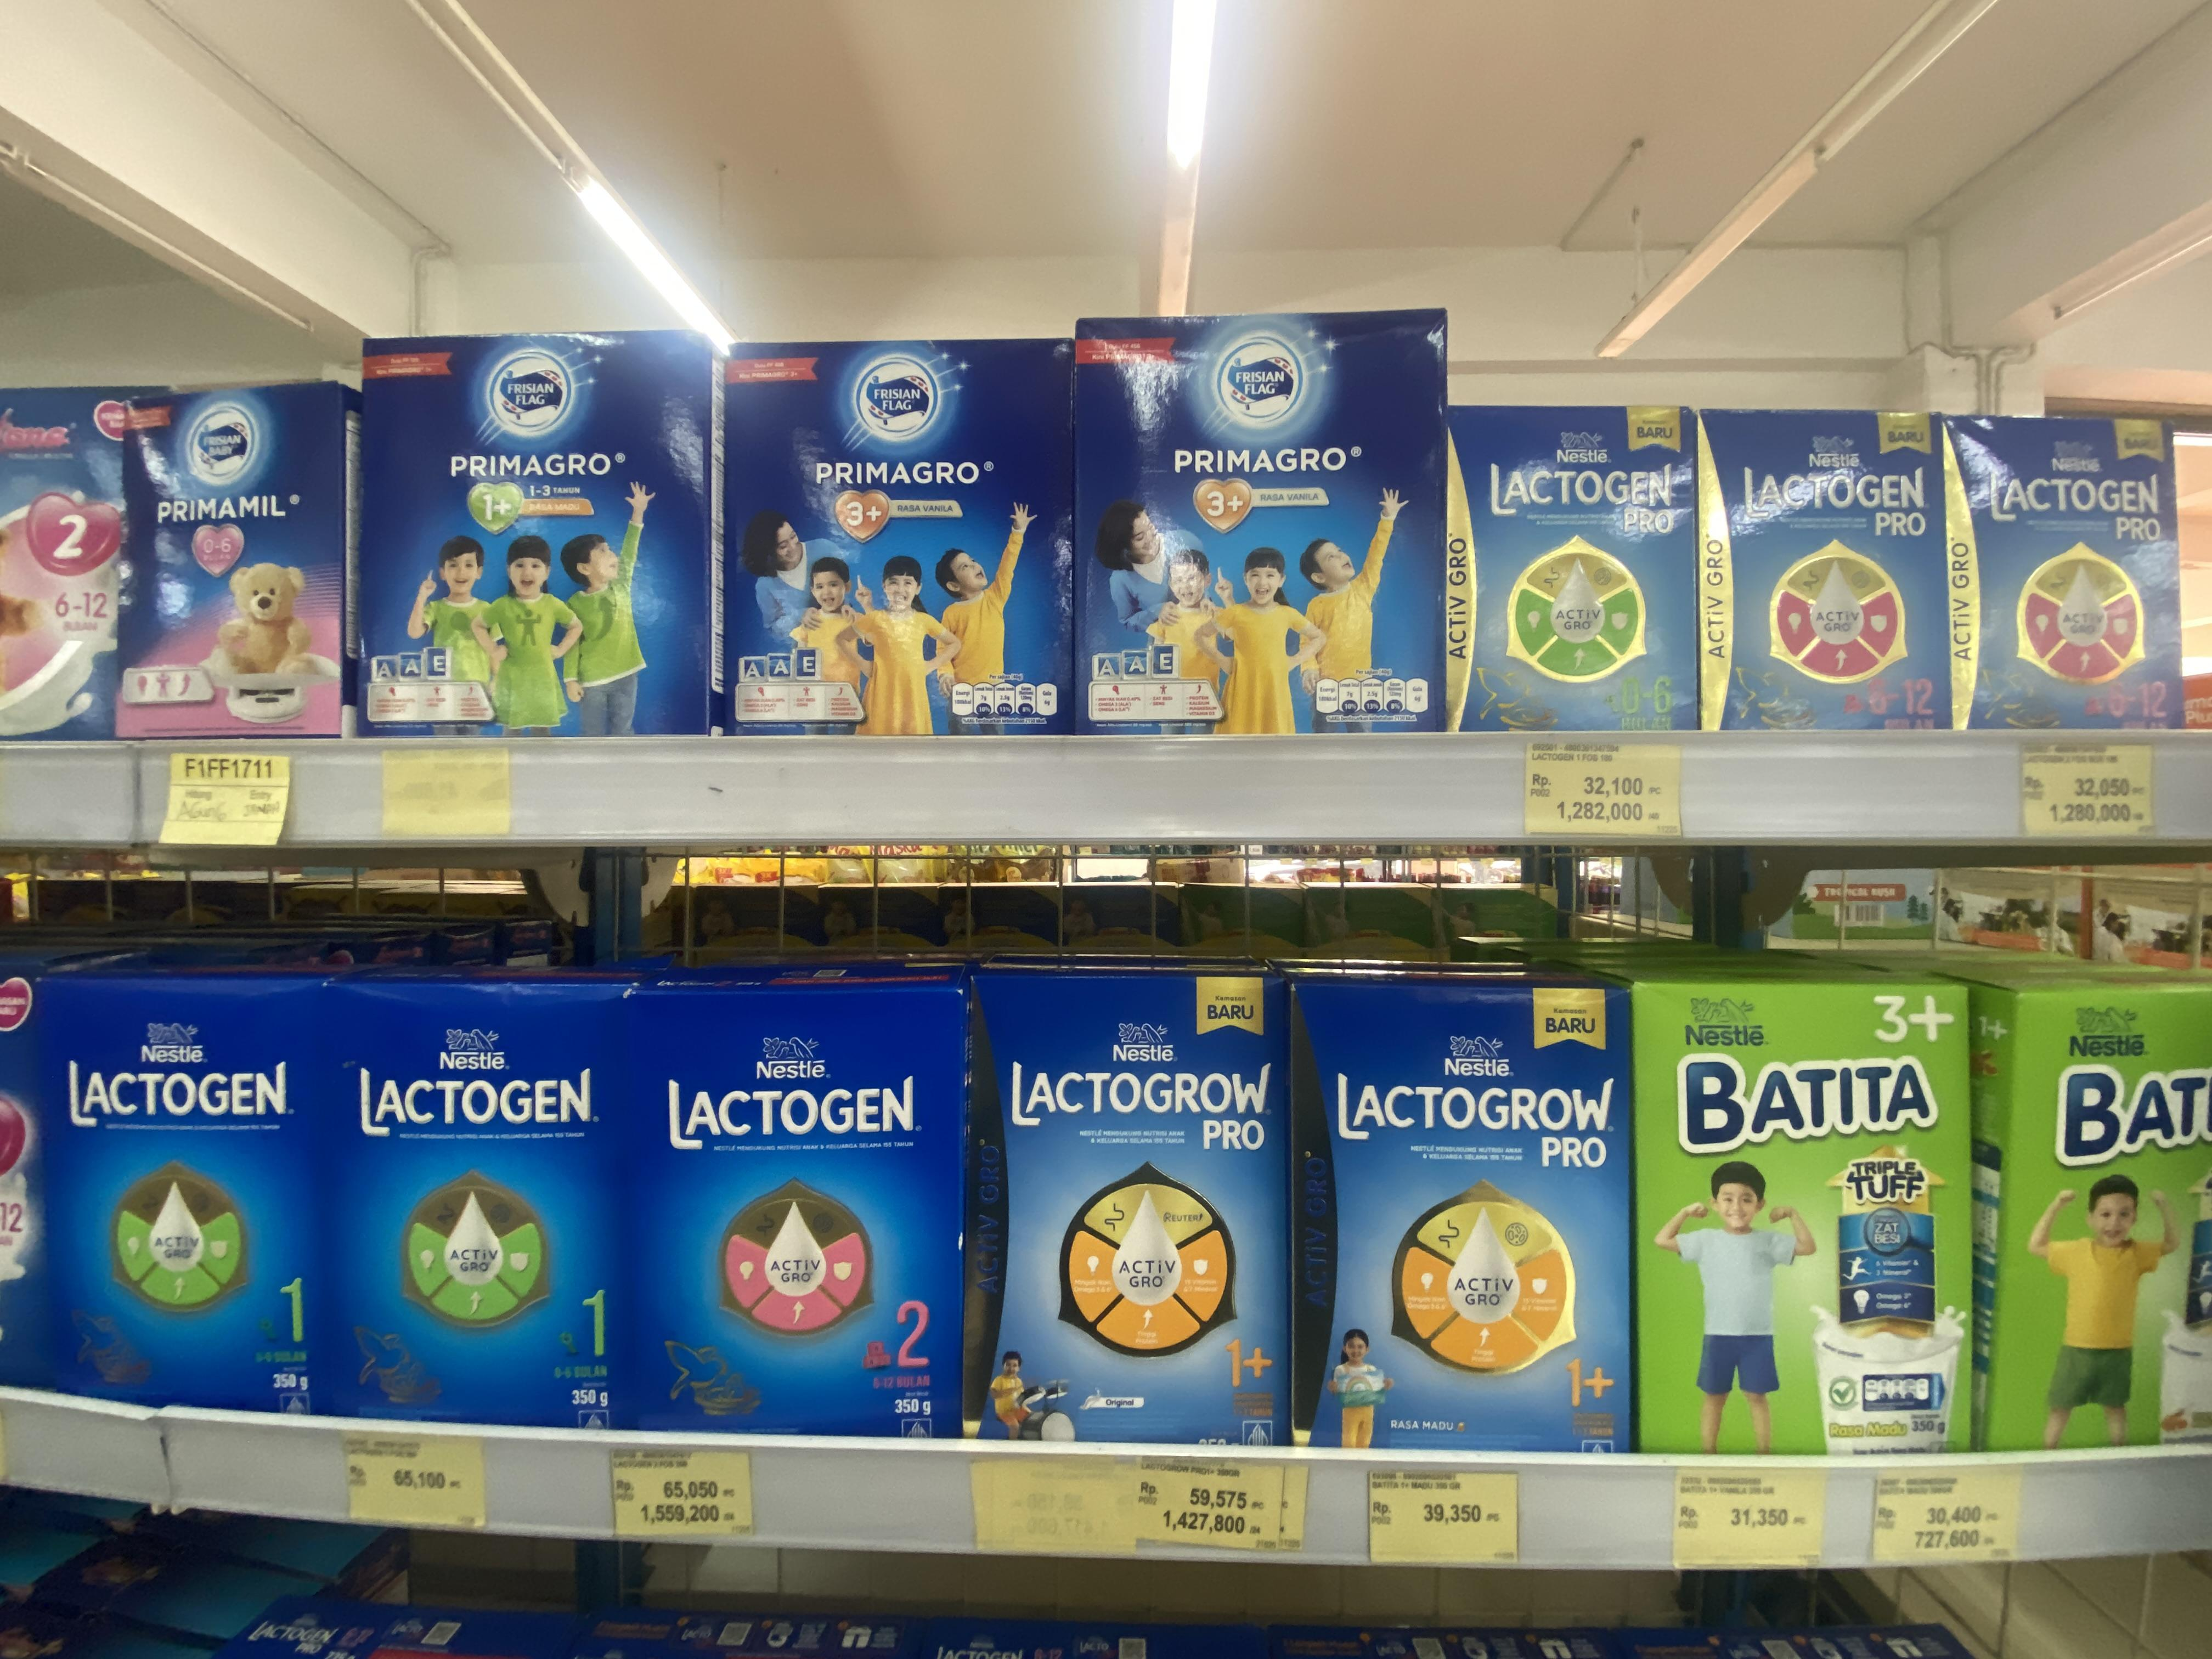LACTOGEN 1 Happynutri 12x750g N1 ID_REDESIGN2: (317, 985, 620, 1425), (38, 979, 327, 1419)
LACTOGEN PRO 0-6 mo 24x350g ID: (1446, 401, 1698, 735)
LACTOGEN PRO 6-12 mo 12x735g ID: (1294, 979, 1635, 1459)
